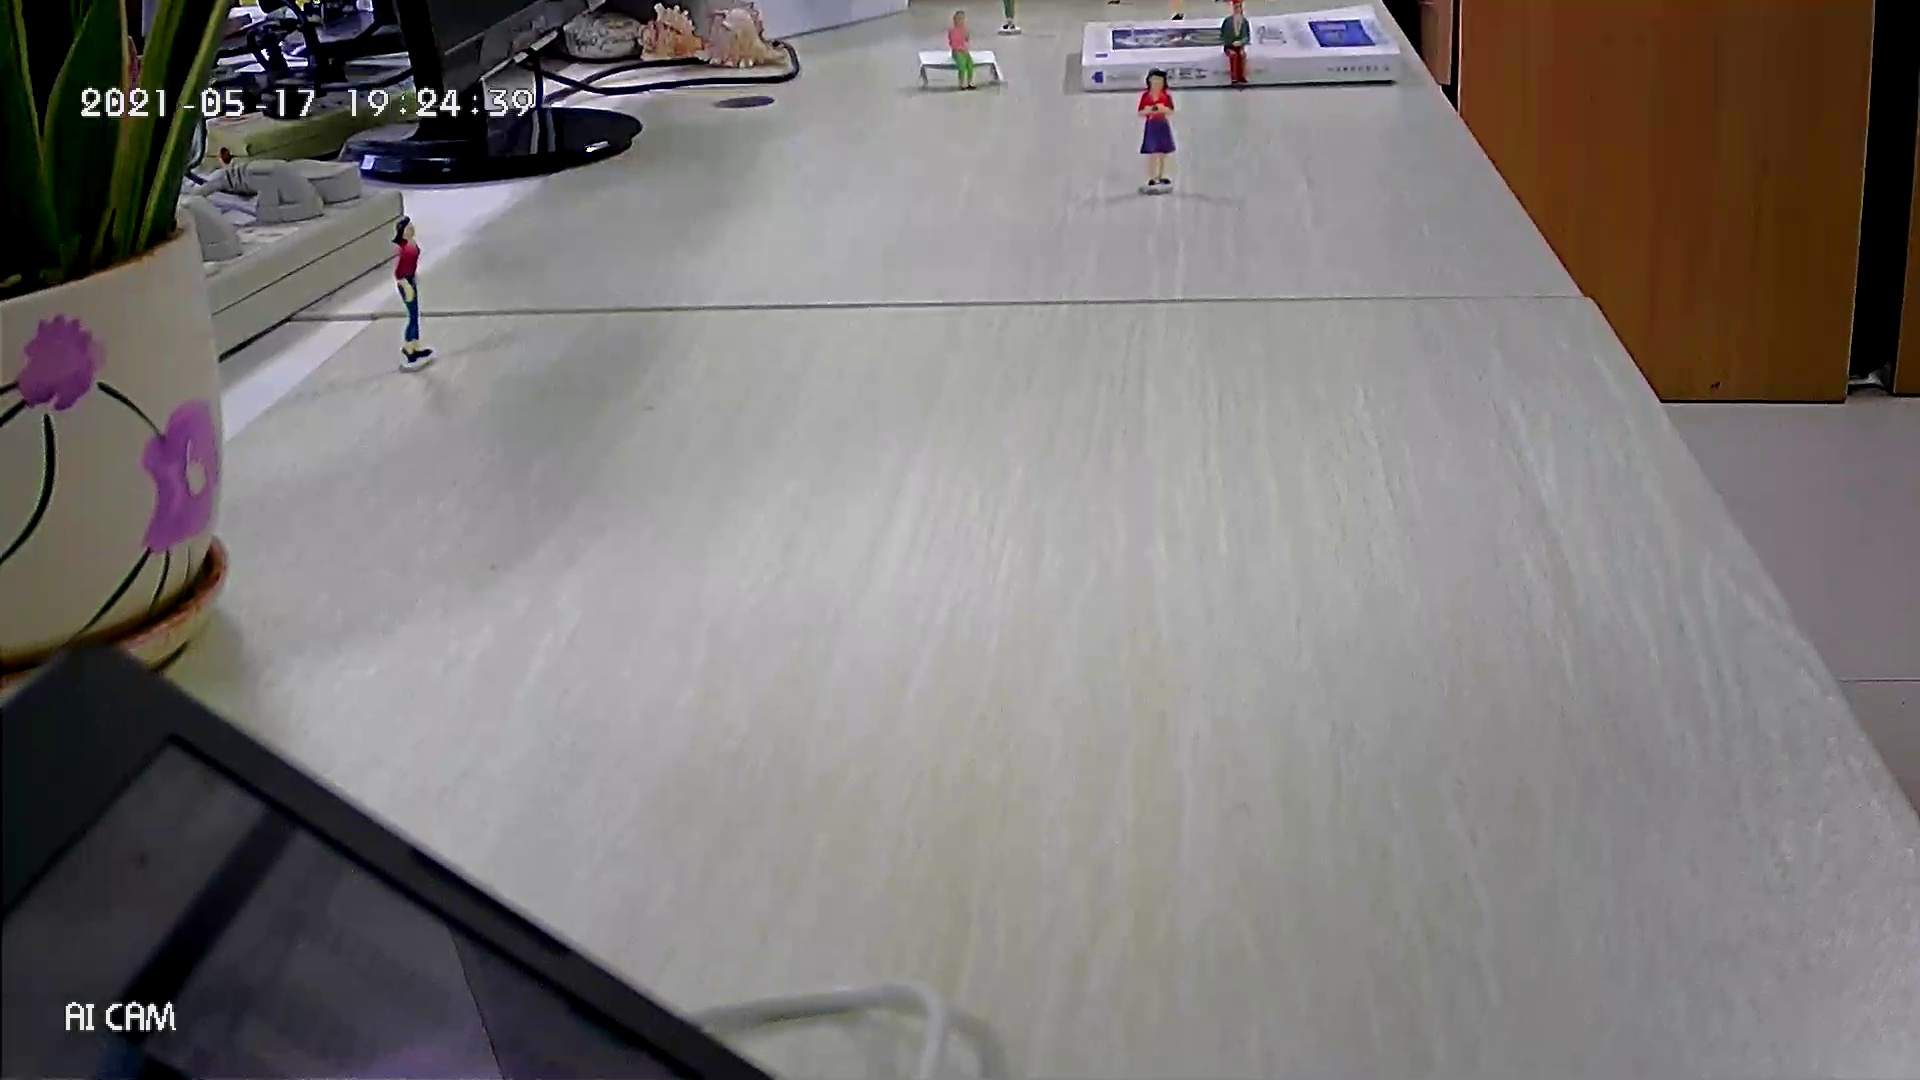person: (390, 215, 433, 364), (1135, 66, 1178, 187), (1218, 1, 1251, 87), (946, 8, 979, 92), (1000, 1, 1020, 32), (1168, 1, 1188, 22)
